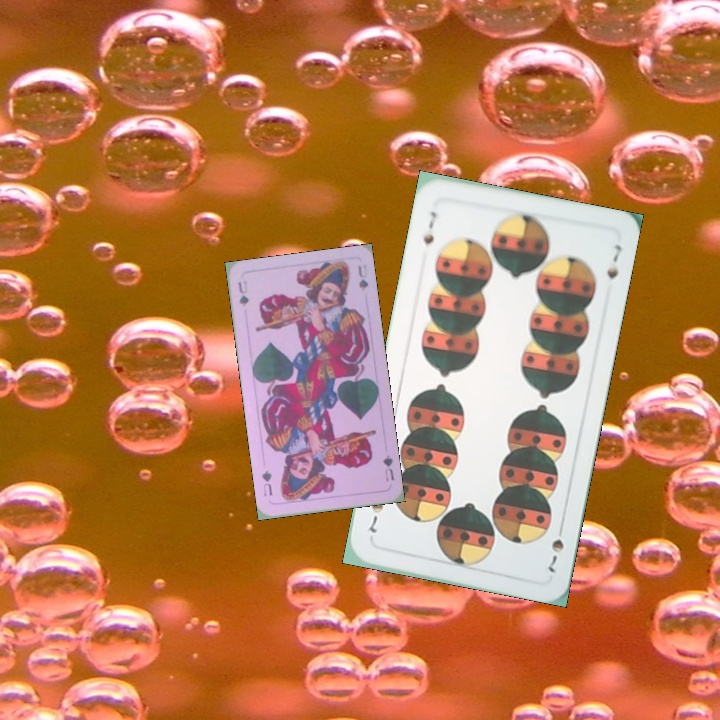GU: (379, 451, 397, 484), (234, 276, 251, 309)
S7: (544, 519, 567, 576), (419, 207, 439, 250)
